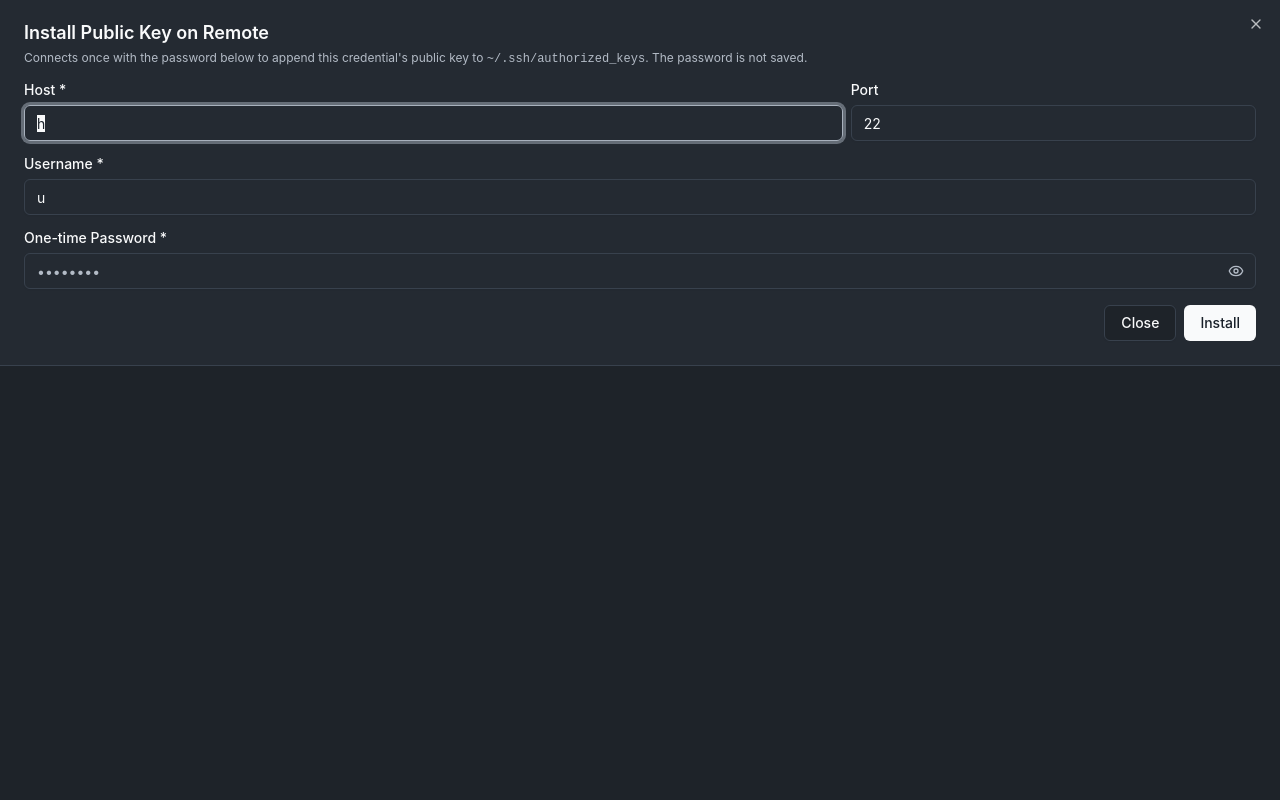
InstallKeyDialog › surfaces backend error
Type "x" into the password field labelled "One-time Password *". click: (640, 271)
box: [24, 253, 1256, 289]
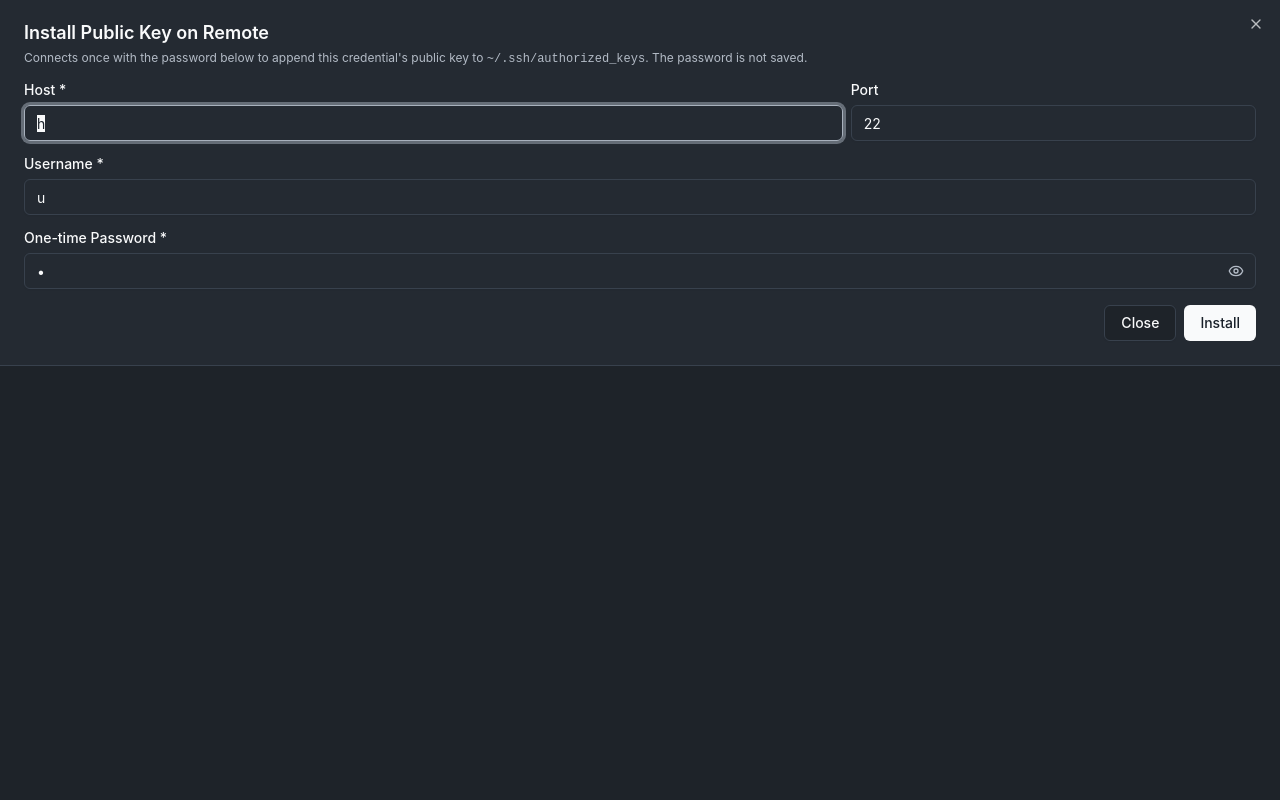
Click the button "Install". click: (1220, 323)
box: [1184, 305, 1256, 341]
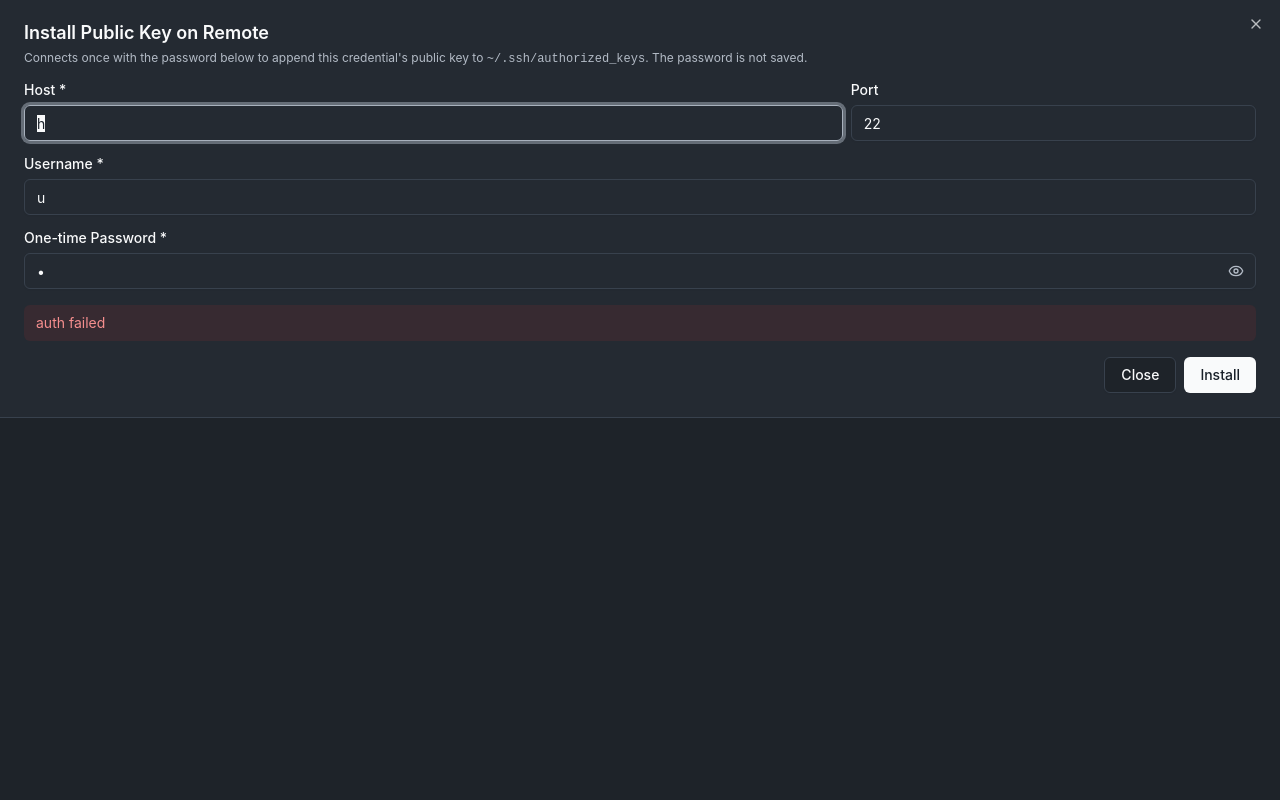
expect the text "auth failed" is shown: met, box [24, 305, 1256, 341]
